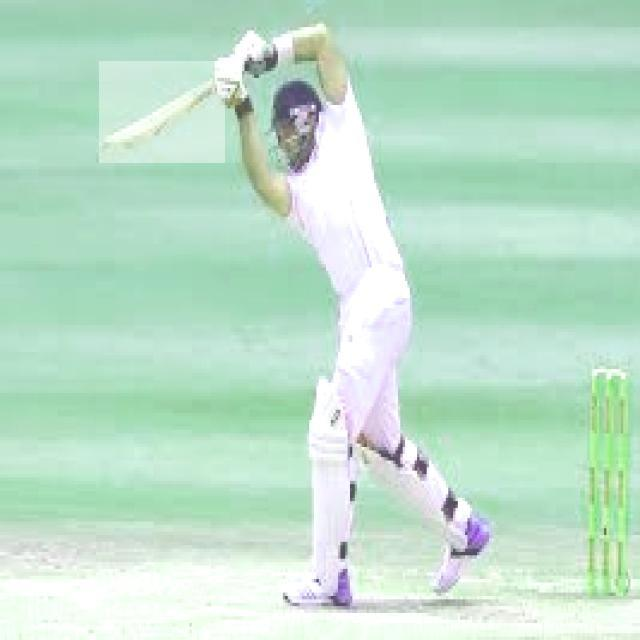bat: (96, 66, 214, 167)
toe: (103, 139, 131, 153)
